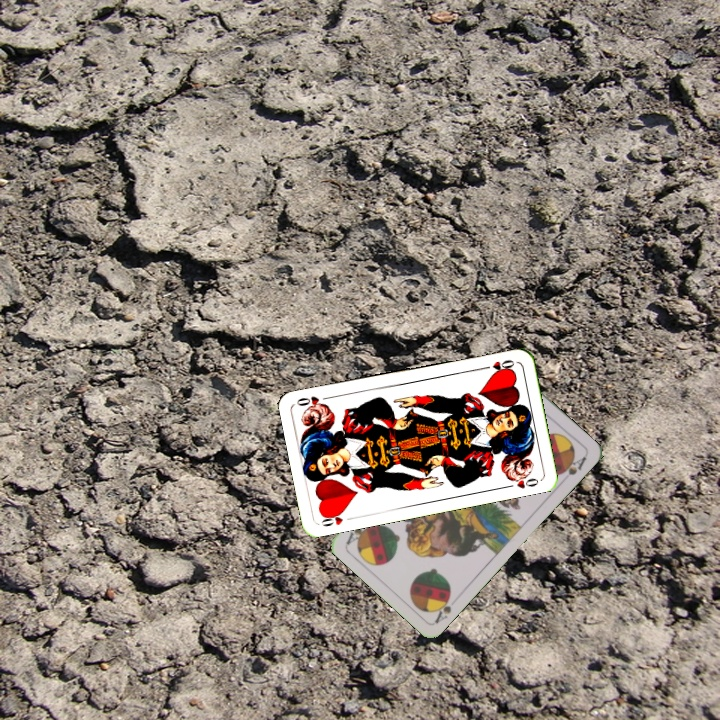HO: (317, 507, 357, 529), (478, 356, 517, 374)
SA: (429, 588, 454, 626)
